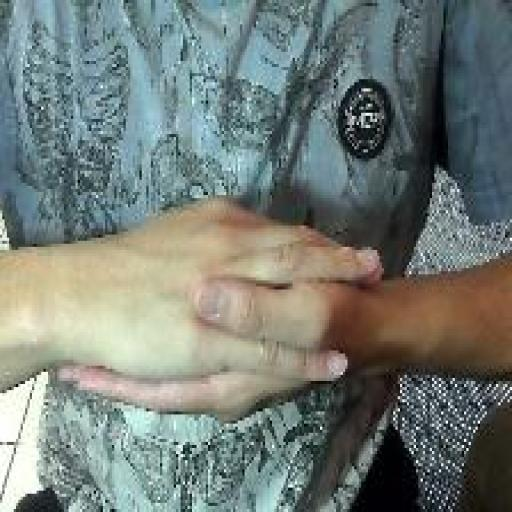Saru -monkey-: (52, 184, 388, 432)
